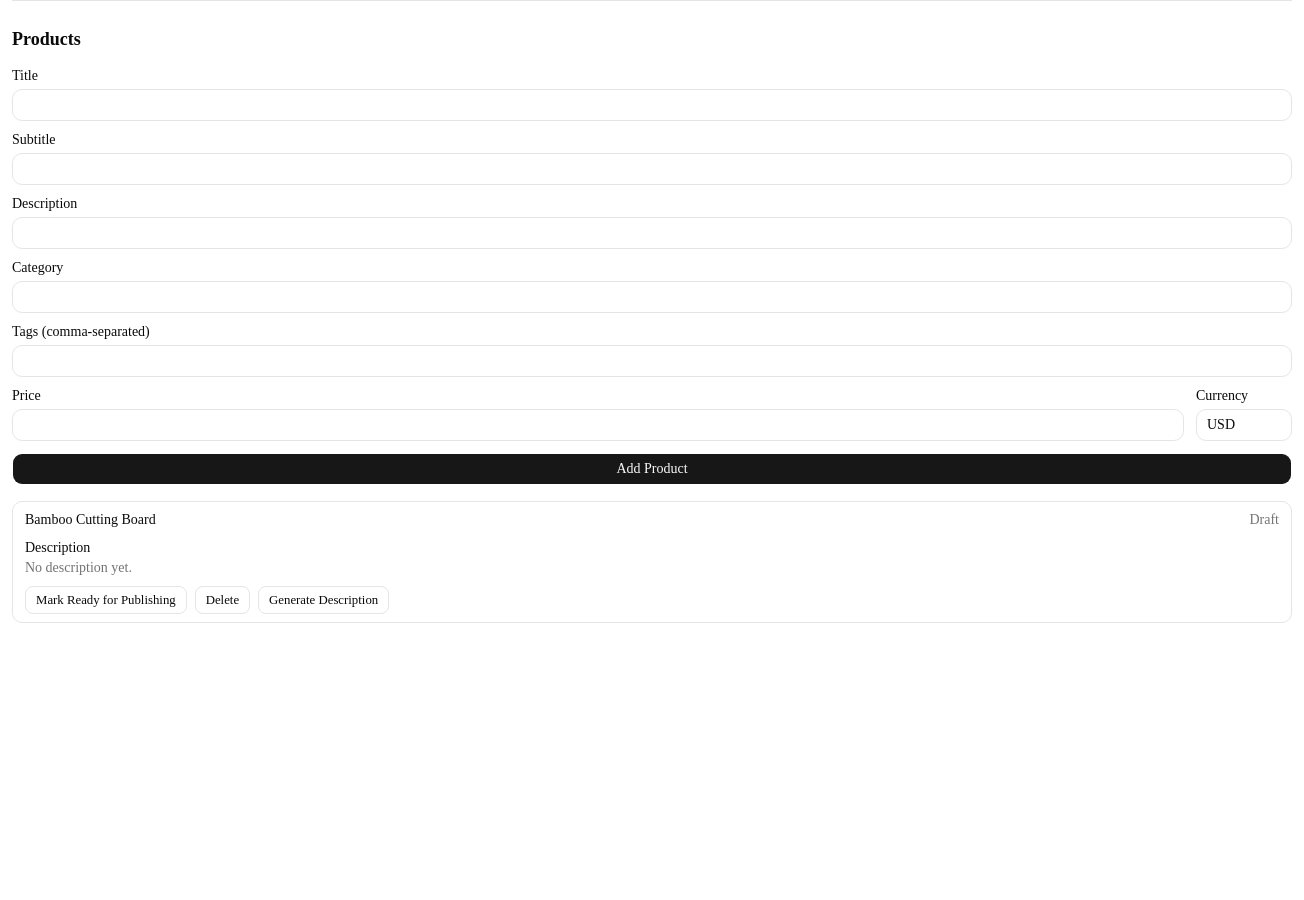
Scenario: ProductIntelligenceSection › shows an error when marking ready for publishing fails
Check: the text "Bamboo Cutting Board" is shown, box [25,510,156,530]
Click the button "Mark Ready for Publishing" at (106, 600), box [25,586,187,614]
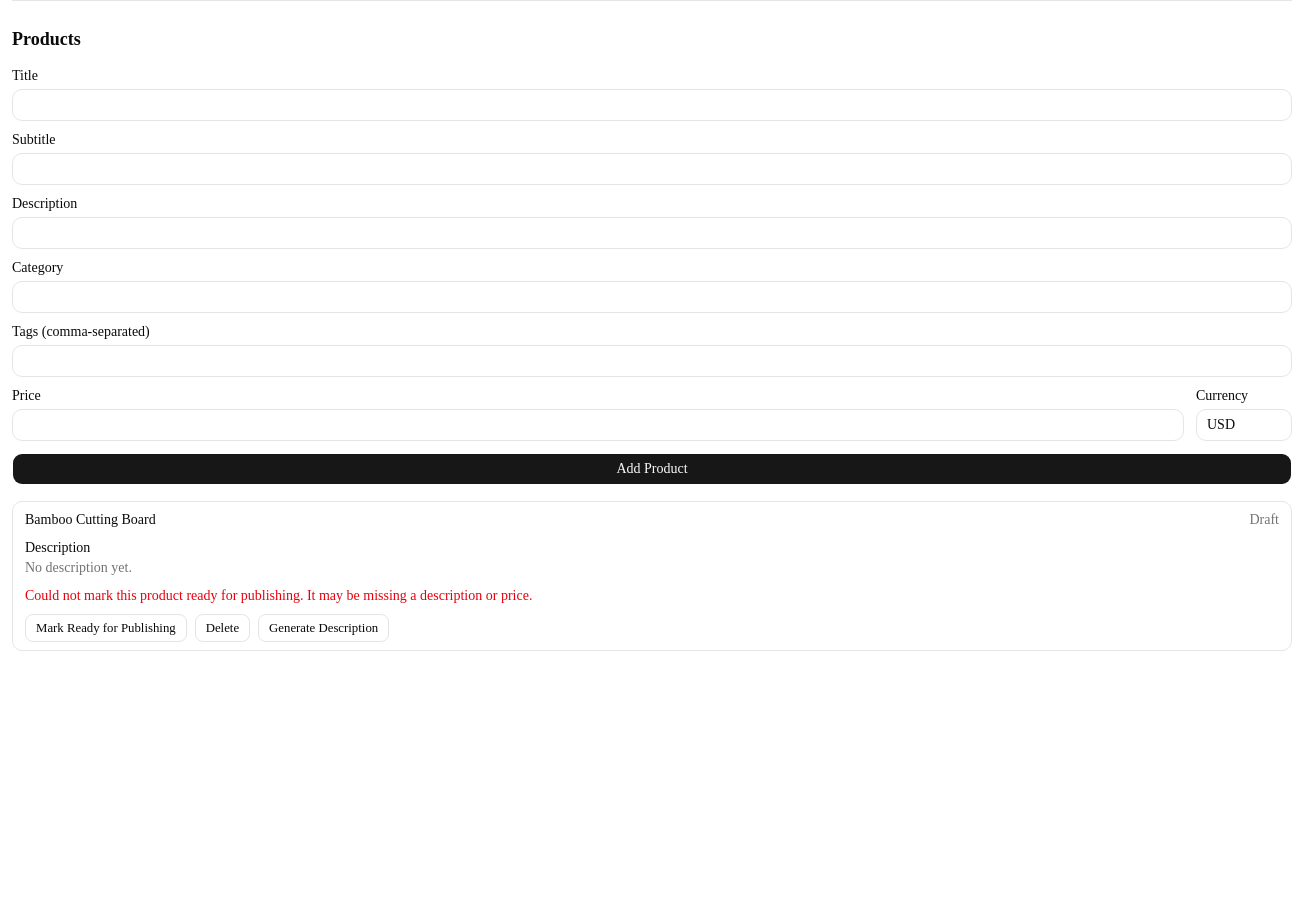
Check: the message shows "Could not mark this product ready for publishing.", box [25,588,532,603]
